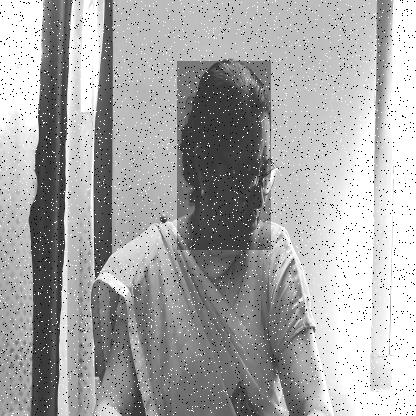Distracted: (177, 61, 271, 250)
